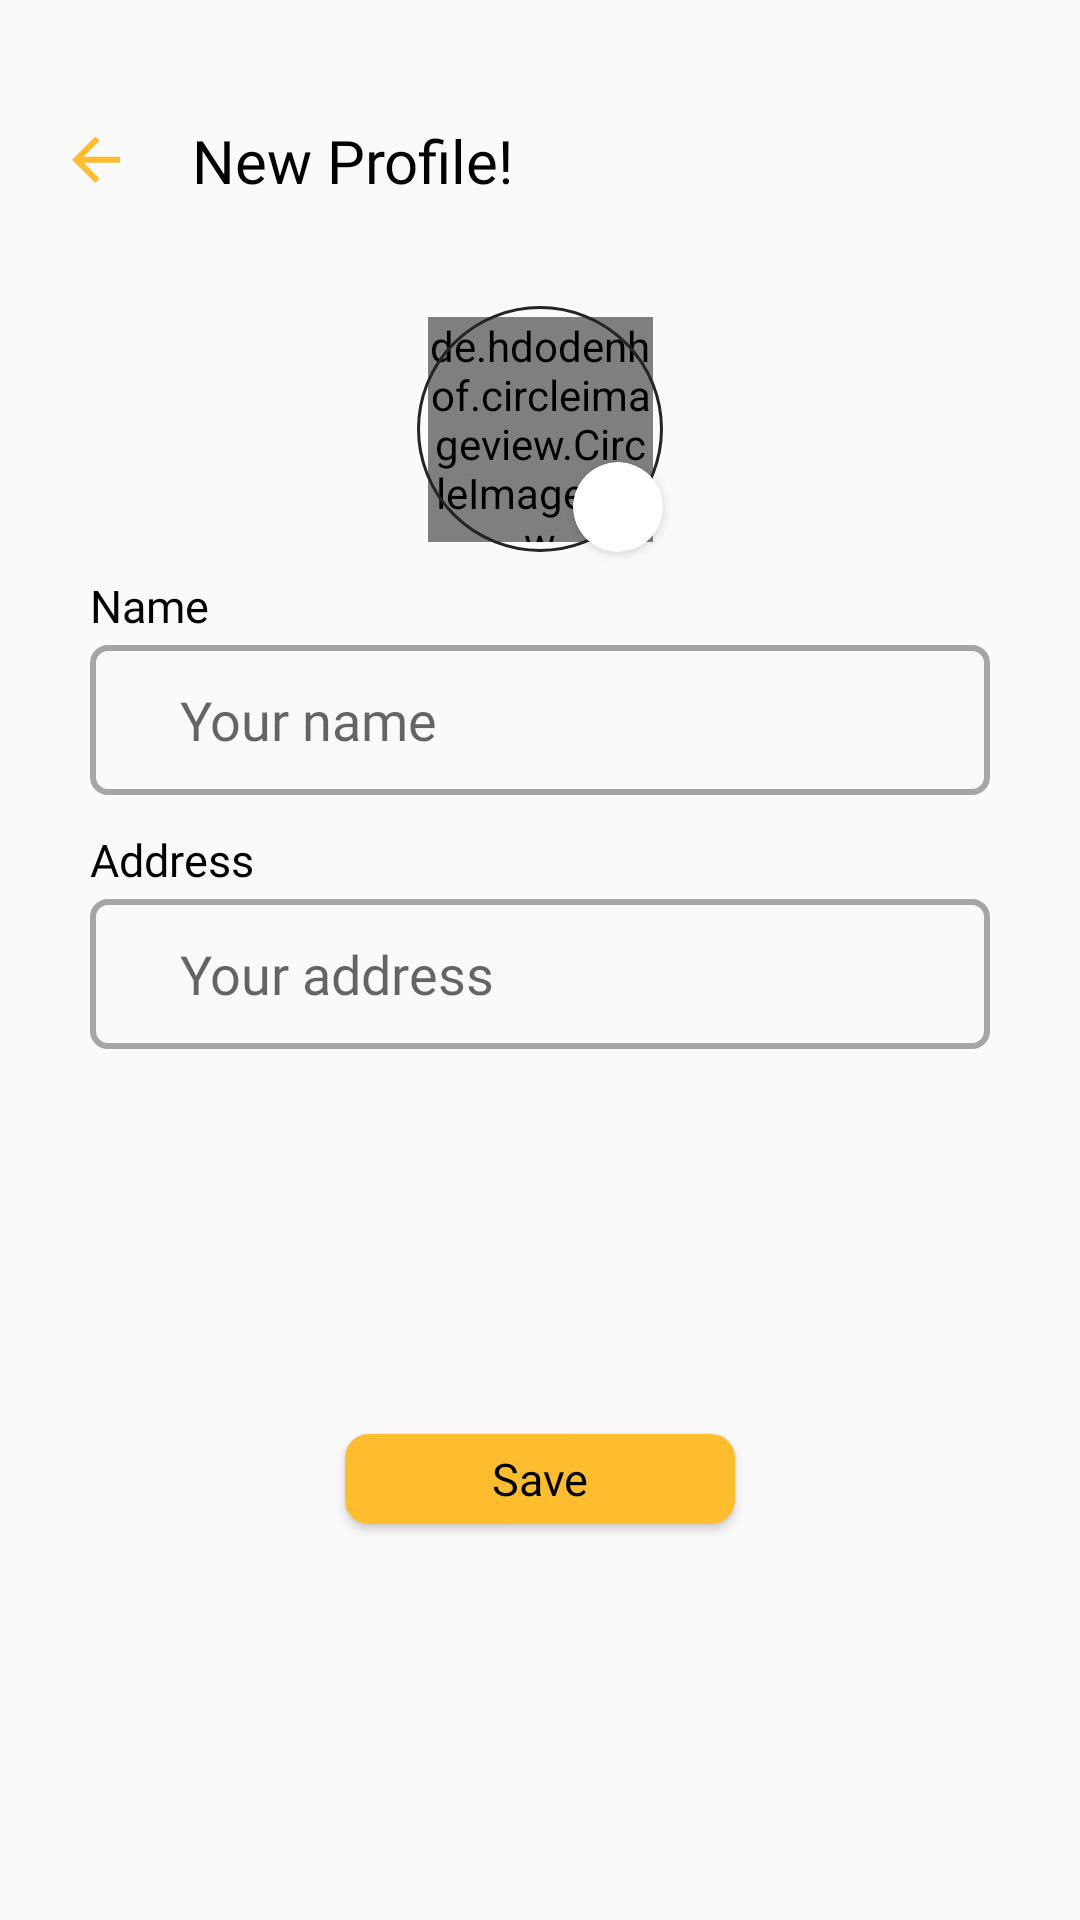

Named icons in this screenshot (1080px x 1920px) and their bounding boxes, (x1, y1, x2, y2):
back arrow: (72, 136, 120, 183)
